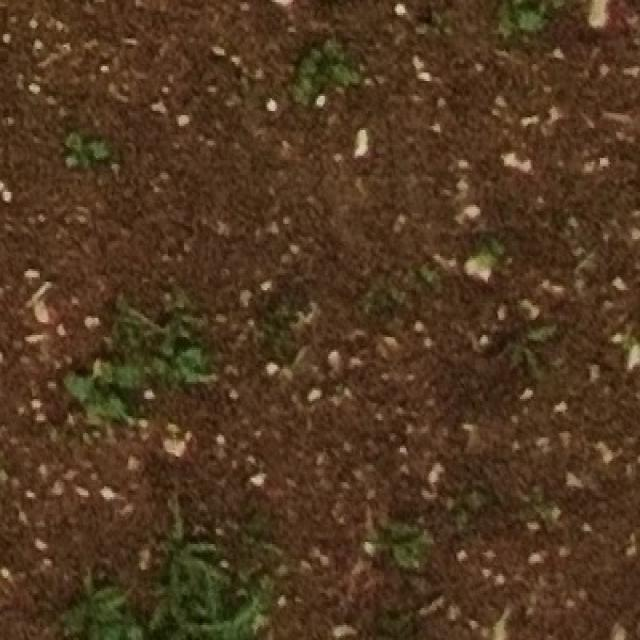cirse: (56, 573, 149, 640), (56, 572, 152, 636), (160, 500, 230, 586), (158, 540, 226, 623), (158, 497, 227, 576), (480, 299, 546, 375), (50, 587, 143, 640), (481, 312, 546, 385), (507, 306, 568, 381)
